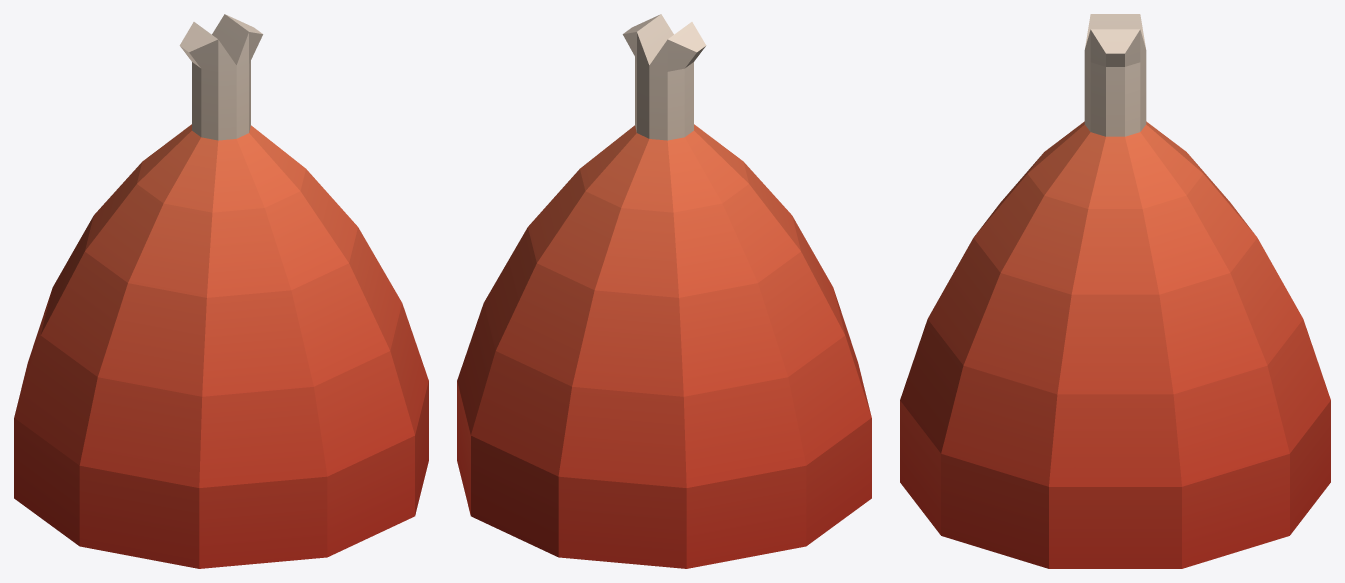
Rendered from meat.glb.
The picture shows the model from 3 angles, left to right: view 1: azimuth 30°, elevation 25°; view 2: azimuth 150°, elevation 25°; view 3: azimuth 270°, elevation 25°; orthographic projection.
Visible parts, largest first — view 1: meat; view 2: meat; view 3: meat.
Boxes of the visible parts, x1=… form: meat: x1=14, y1=14, x2=428, y2=568; meat: x1=457, y1=14, x2=871, y2=568; meat: x1=900, y1=14, x2=1330, y2=568.
Bounding box in the file's own units: 0.3538 × 0.4428 × 0.372.
1 material, 1 textured.
